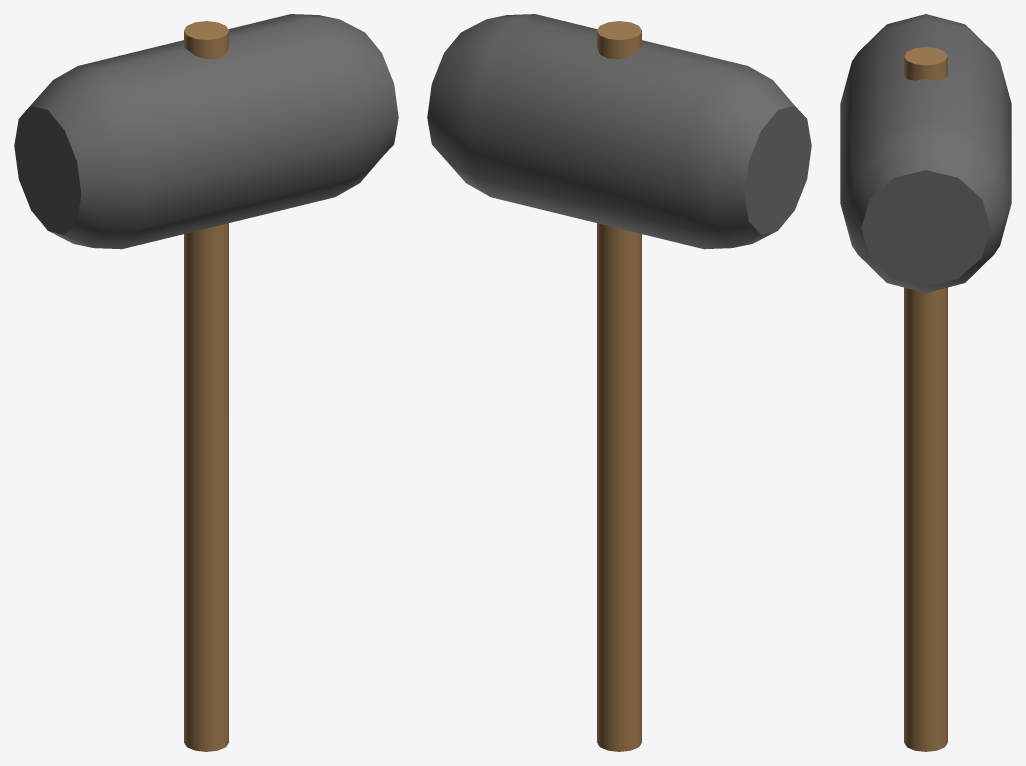
The model's file is Work Hammer_1.fbx.
3 renders of one model, left to right at view 1: azimuth 30°, elevation 25°; view 2: azimuth 150°, elevation 25°; view 3: azimuth 270°, elevation 25°, orthographic. The views are drawn at different scales.
Parts seen in each view (by area): view 1: Work Hammer_1; view 2: Work Hammer_1; view 3: Work Hammer_1.
Boxes of the visible parts, <box> form: Work Hammer_1: <box>14,14,398,751</box>; Work Hammer_1: <box>427,14,811,751</box>; Work Hammer_1: <box>840,14,1011,751</box>.
Size of the model in its own units: 0.2034 by 0.4361 by 0.0985.
